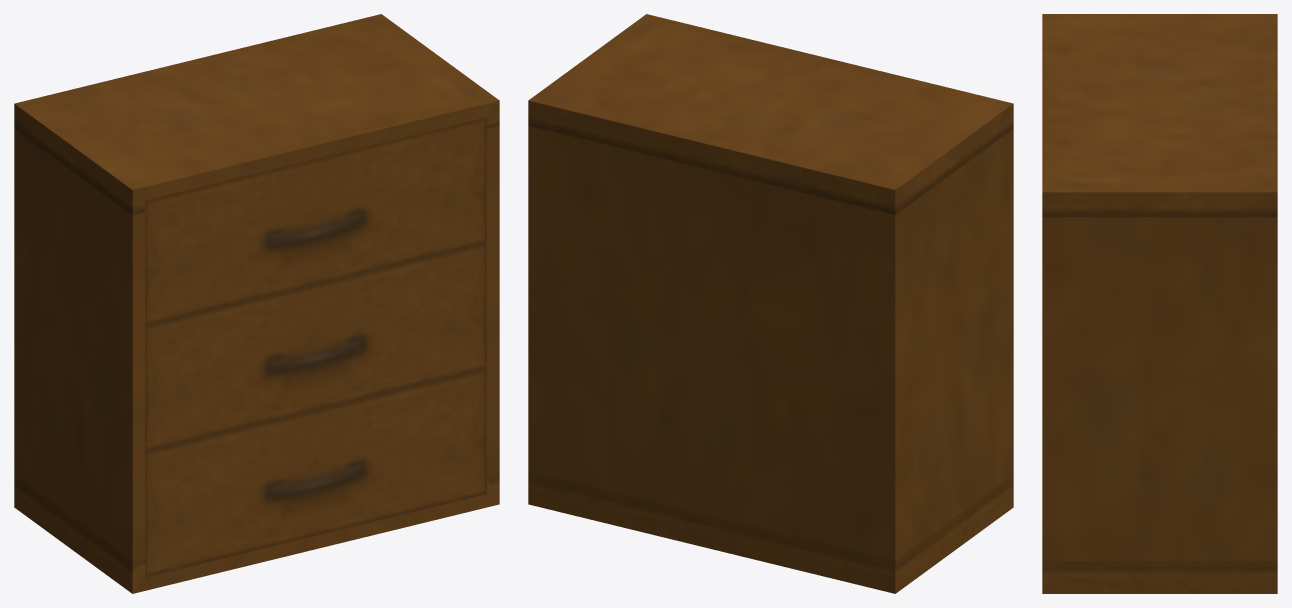
Rendered from Dresser.fbx.
The picture shows the model from 3 angles, left to right: view 1: azimuth 30°, elevation 25°; view 2: azimuth 150°, elevation 25°; view 3: azimuth 270°, elevation 25°; orthographic projection.
Visible parts, largest first — view 1: Dresser, Drawer2, Drawer1, Drawer3; view 2: Dresser; view 3: Dresser.
Boxes of the visible parts, left/top/right/bottom form: Dresser: left=14, top=14, right=499, bottom=593; Drawer2: left=144, top=243, right=486, bottom=451; Drawer1: left=144, top=117, right=486, bottom=325; Drawer3: left=145, top=368, right=486, bottom=577; Dresser: left=528, top=14, right=1013, bottom=593; Dresser: left=1042, top=14, right=1277, bottom=593.
Size of the model in its own units: 257 by 143 by 270.
